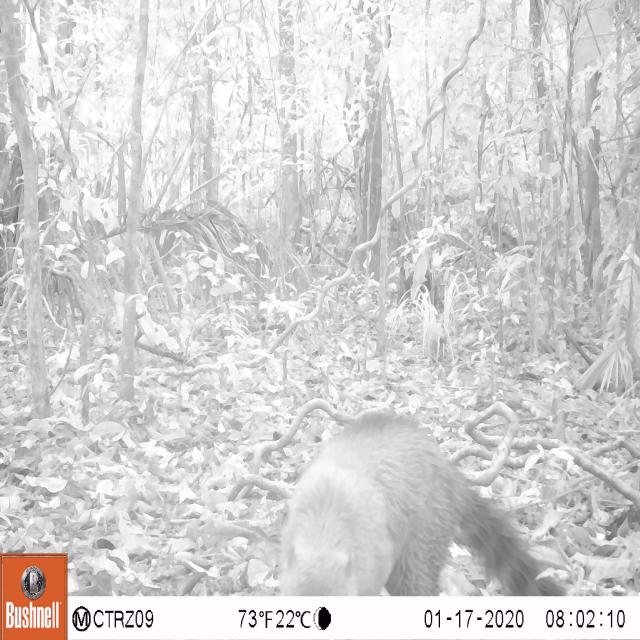South American Coati: (273, 394, 571, 596)
